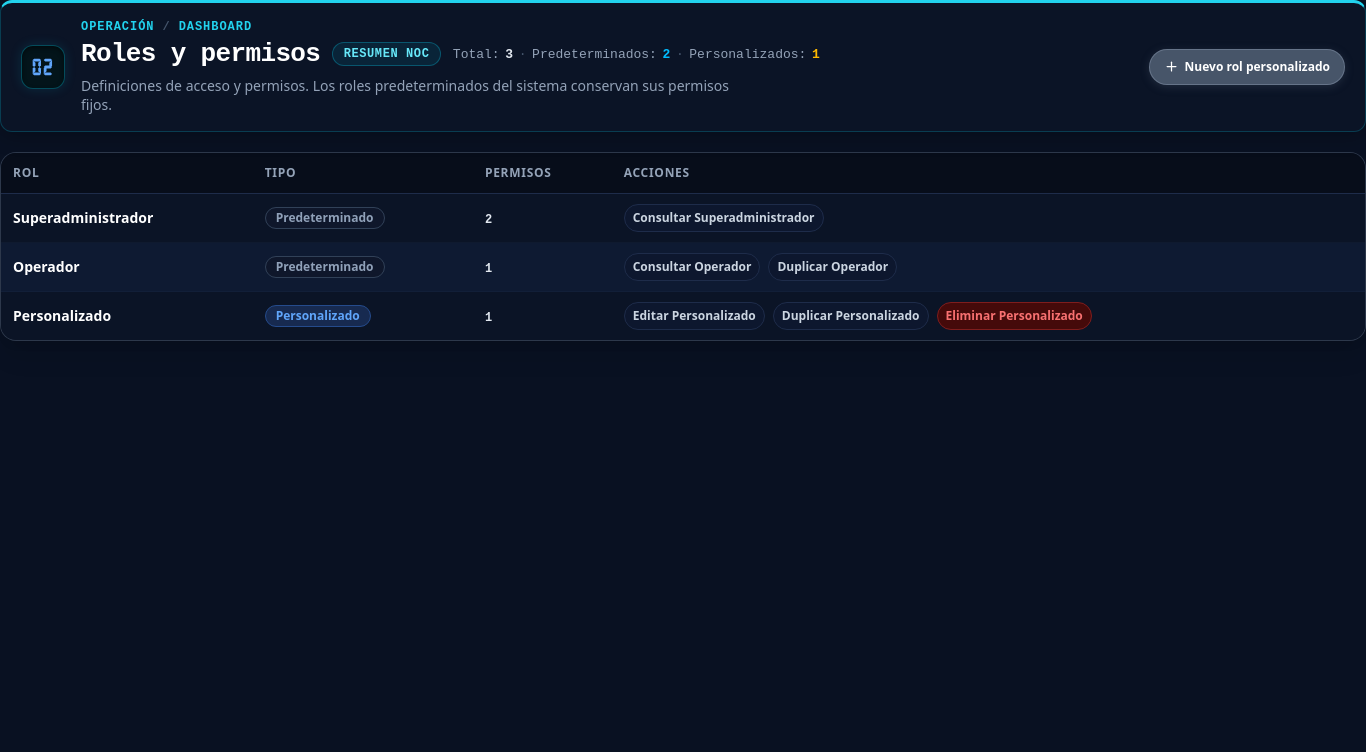
Scenario: muestra los roles fijos sin acciones prohibidas y crea roles vacíos
Expected: the button "Consultar Superadministrador" is shown, [624,204,824,232]
Expected: the button "Duplicar Operador" is shown, [768,253,897,281]
Click the button "Nuevo rol personalizado" at (1247, 67), box [1149,49,1345,85]
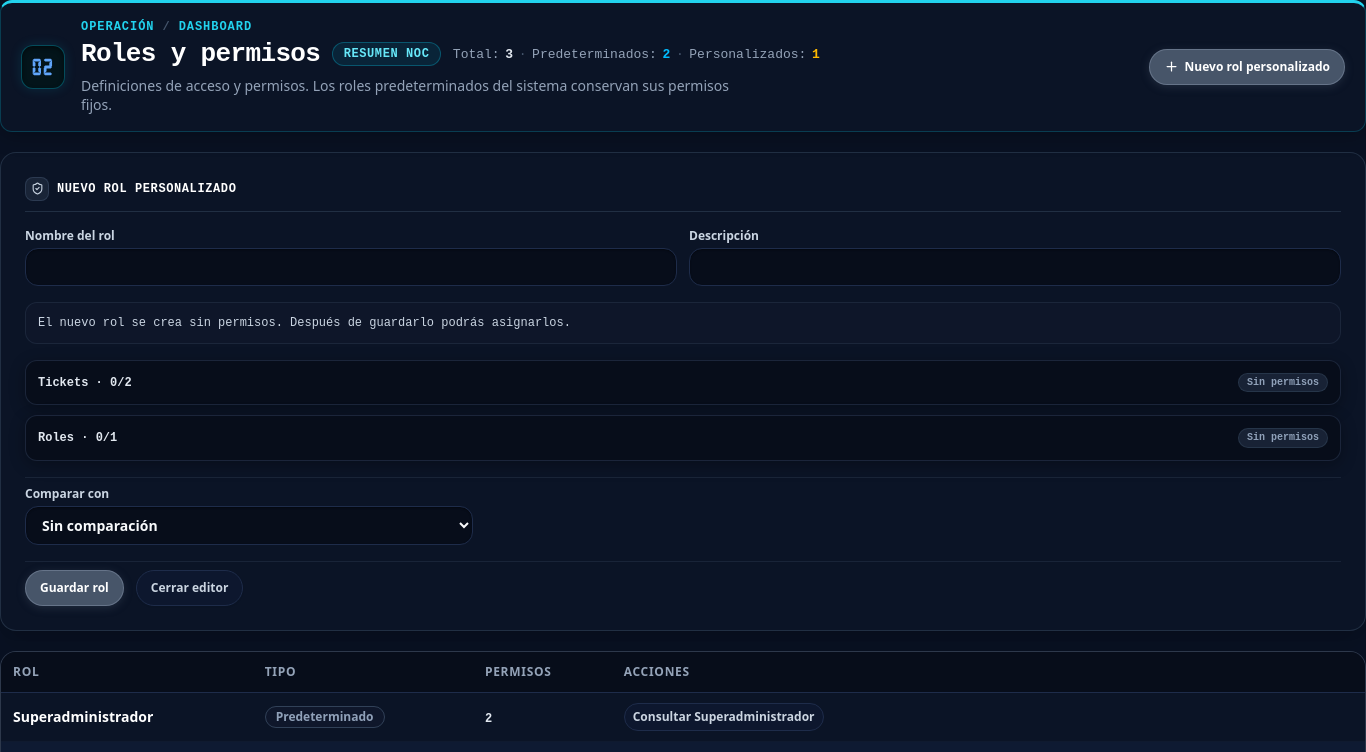
Type "Nuevo" into the field labelled "Nombre del rol" at (351, 267), box [25,248,677,286]
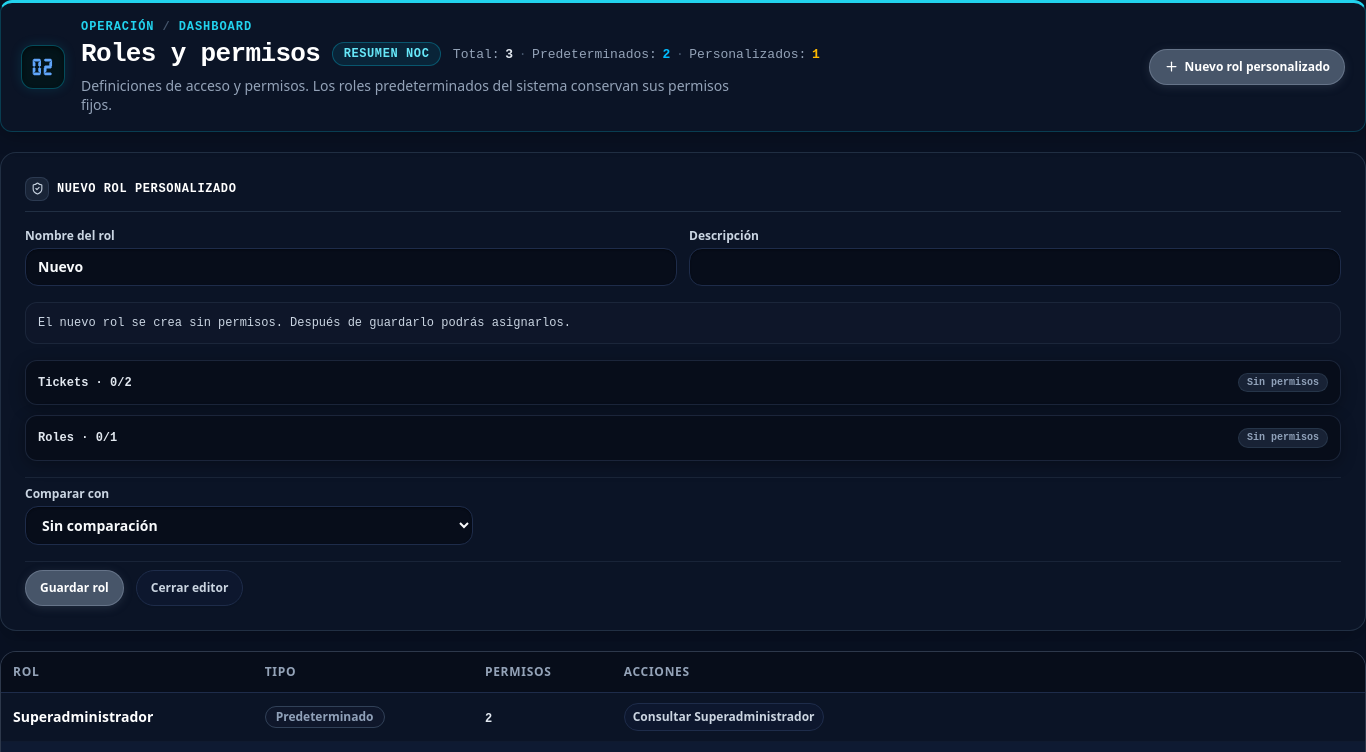
Click the button "Guardar rol" at (74, 588), box [25,570,124,606]
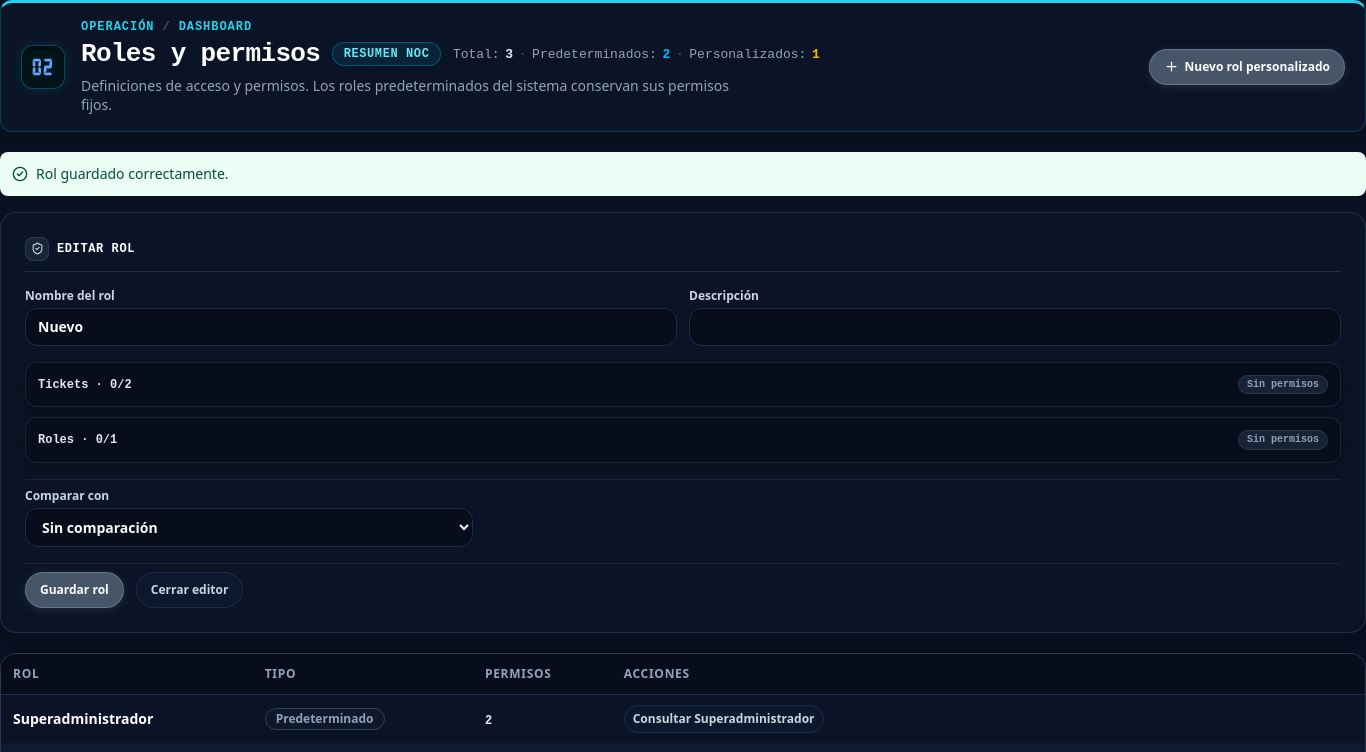
Result: the text "Rol guardado correctamente." is shown at [36,164,229,184]
